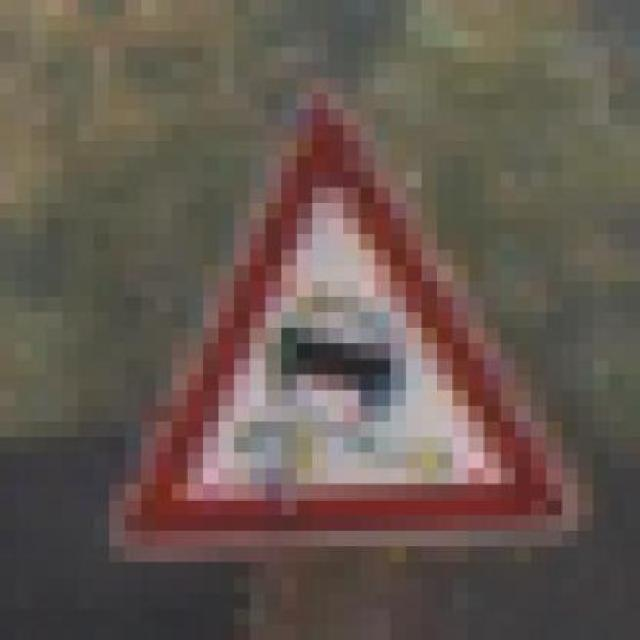Slippery Road Ahead: (78, 78, 593, 562)
